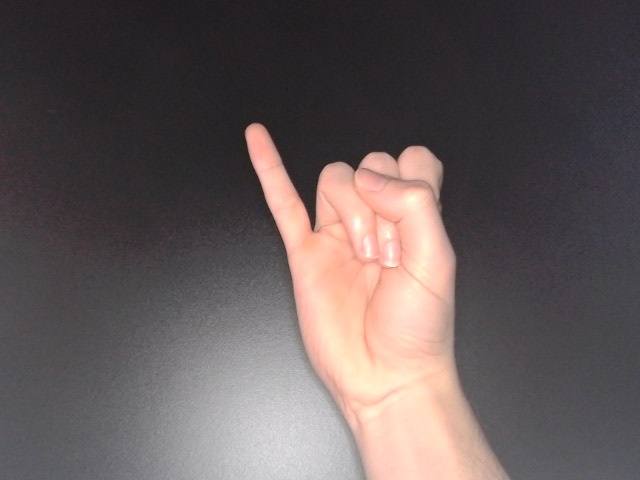j: (240, 119, 464, 417)
